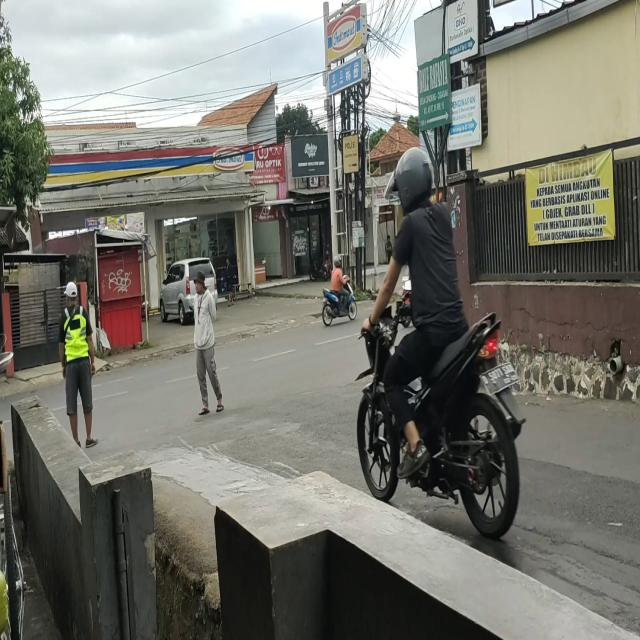helmet: (394, 150, 433, 207), (334, 254, 342, 268)
